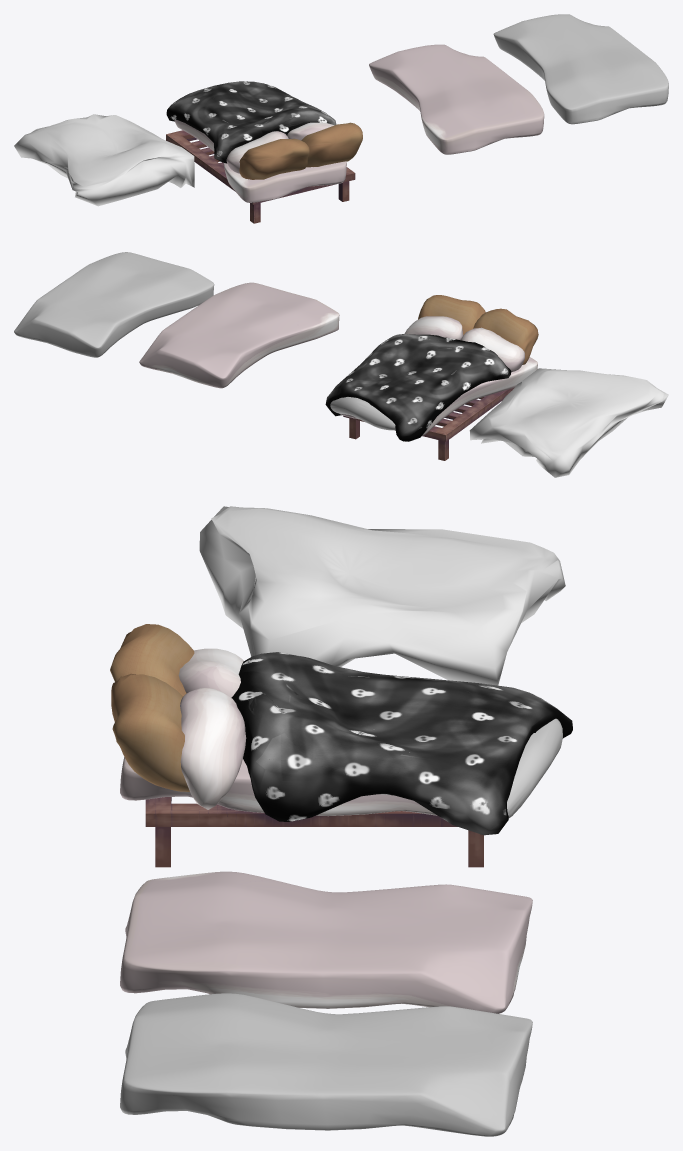
File: BED.fbx
3 renders of one model, top to bottom at view 1: azimuth 30°, elevation 25°; view 2: azimuth 150°, elevation 25°; view 3: azimuth 270°, elevation 25°, orthographic. The views are drawn at different scales.
Parts seen in each view (by area): view 1: Cube.002, Cube.003, Sphere.002, Sphere.008, Cube.001, Sphere.009, Sphere.006, Cube, Sphere.005, Sphere.004; view 2: Cube.002, Cube.003, Sphere.002, Sphere.008, Cube, Sphere.009, Cube.001, Sphere.006, Sphere.005, Sphere.003, Sphere.004; view 3: Cube.003, Cube.002, Sphere.002, Sphere.008, Sphere.006, Sphere.004, Cube, Cube.001, Sphere.009, Sphere.003, Sphere.005.
Boxes of the visible parts, x1,y1,x2,y2 form: Cube.002: [369, 44, 544, 154]; Cube.003: [493, 14, 668, 124]; Sphere.002: [14, 114, 194, 206]; Sphere.008: [166, 81, 336, 163]; Cube.001: [174, 120, 346, 202]; Sphere.009: [239, 138, 309, 179]; Sphere.006: [301, 122, 362, 167]; Cube: [166, 130, 355, 223]; Sphere.005: [226, 131, 288, 173]; Sphere.004: [287, 122, 334, 140]; Cube.002: [139, 282, 339, 388]; Cube.003: [14, 252, 214, 357]; Sphere.002: [469, 368, 668, 477]; Sphere.008: [325, 334, 511, 441]; Cube: [343, 387, 514, 460]; Sphere.009: [473, 308, 538, 364]; Cube.001: [340, 357, 537, 436]; Sphere.006: [418, 295, 485, 335]; Sphere.005: [460, 327, 524, 371]; Sphere.003: [330, 397, 395, 430]; Sphere.004: [404, 316, 463, 340]; Cube.003: [120, 993, 532, 1136]; Cube.002: [120, 871, 532, 1013]; Sphere.002: [199, 506, 565, 685]; Sphere.008: [231, 652, 572, 835]; Sphere.006: [111, 673, 189, 791]; Sphere.004: [180, 688, 246, 809]; Cube: [145, 797, 483, 867]; Cube.001: [120, 757, 437, 816]; Sphere.009: [110, 624, 194, 696]; Sphere.003: [507, 718, 562, 818]; Sphere.005: [178, 648, 243, 697].
Size of the model in its own units: 5610 by 738 by 1929.
